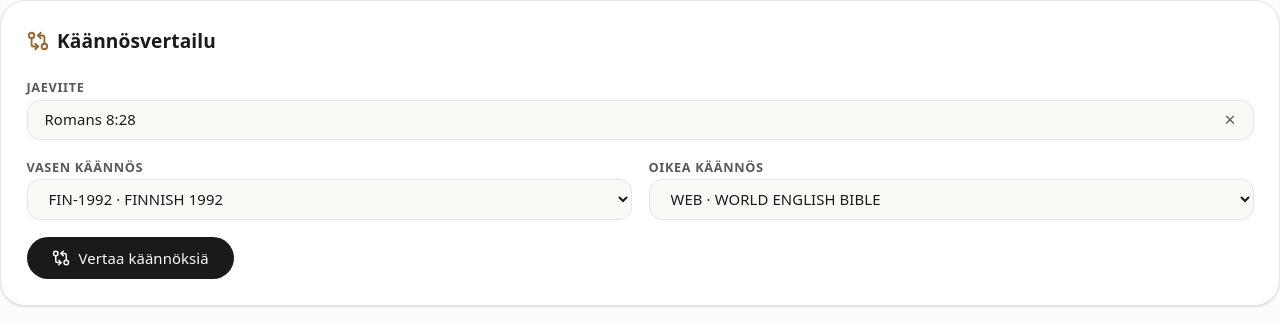
Scenario: CompareView › clears reference when clear button is clicked
Expected: the field holds "Romans 8:28", [26,100,1254,140]
Click the button named "Clear input": (1230, 120) [1218,108,1241,131]
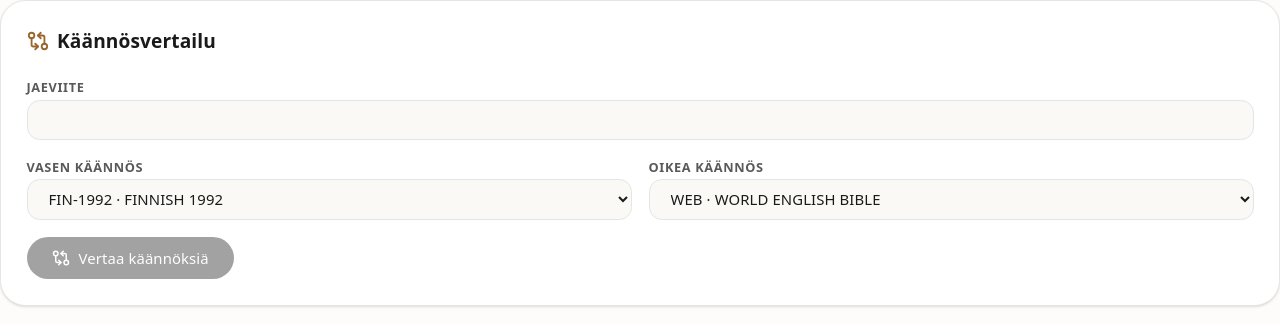
Result: the field is empty at [26,100,1254,140]
